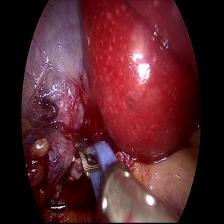Bipolar: (74, 124, 141, 220)
